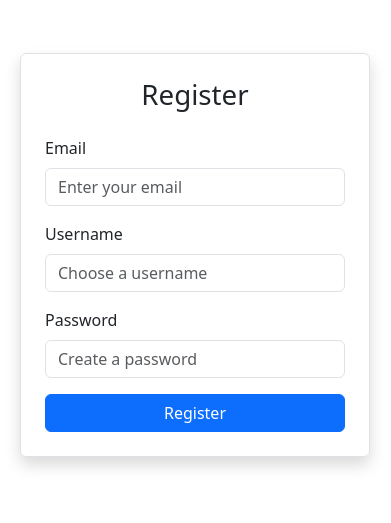
Test: RegisterForm Component Testing › clears error message after a successful retry
Type "test@example.com" into the field with placeholder "Enter your email".
click(195, 187); type("test@example.com")  # box [45,168,345,206]
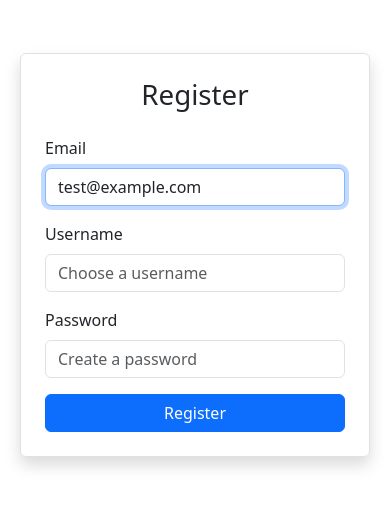
Type "testuser" into the field with placeholder "Choose a username".
click(195, 273); type("testuser")  # box [45,254,345,292]
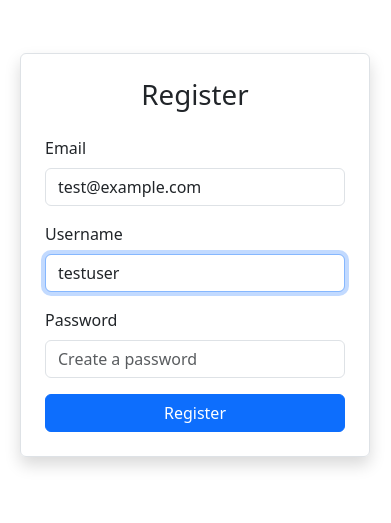
Type "password123" into the password field with placeholder "Create a password".
click(195, 359); type("password123")  # box [45,340,345,378]
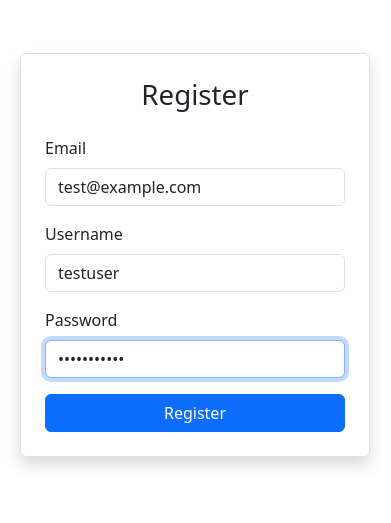
Click the button "Register".
click(195, 413)  # box [45,394,345,432]
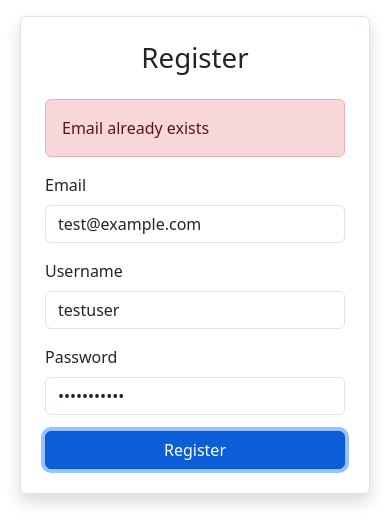
Result: the text "Email already exists" is shown at [45,99,345,157]
Click the button "Register".
click(195, 450)  # box [45,431,345,469]
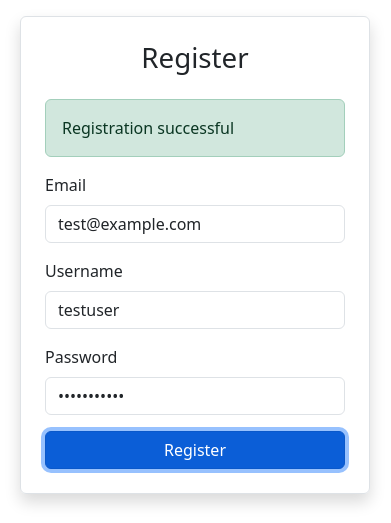
Result: the text "Email already exists" is gone
Result: the text "Registration successful" is shown at [45,99,345,157]
